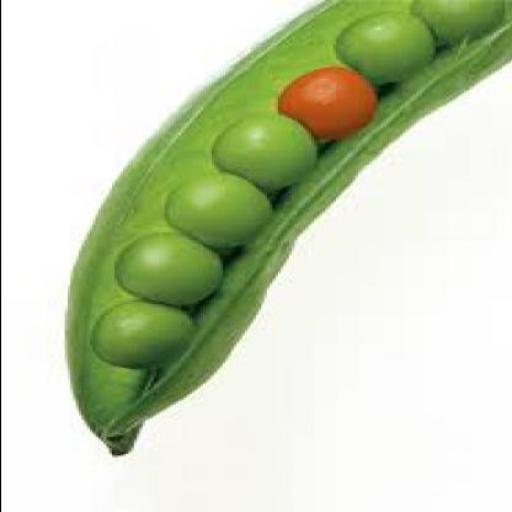biodegradable: (71, 0, 511, 458), (222, 110, 321, 192), (113, 238, 235, 304), (280, 66, 382, 144), (172, 176, 280, 247), (346, 13, 437, 87), (100, 306, 199, 370), (413, 1, 506, 45)
